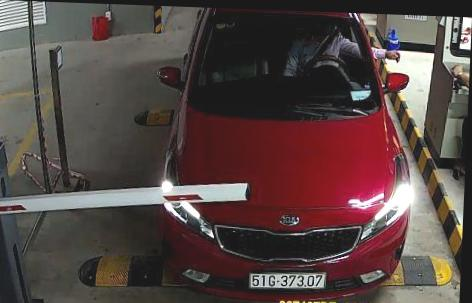License_Plate: (249, 265, 328, 291)
